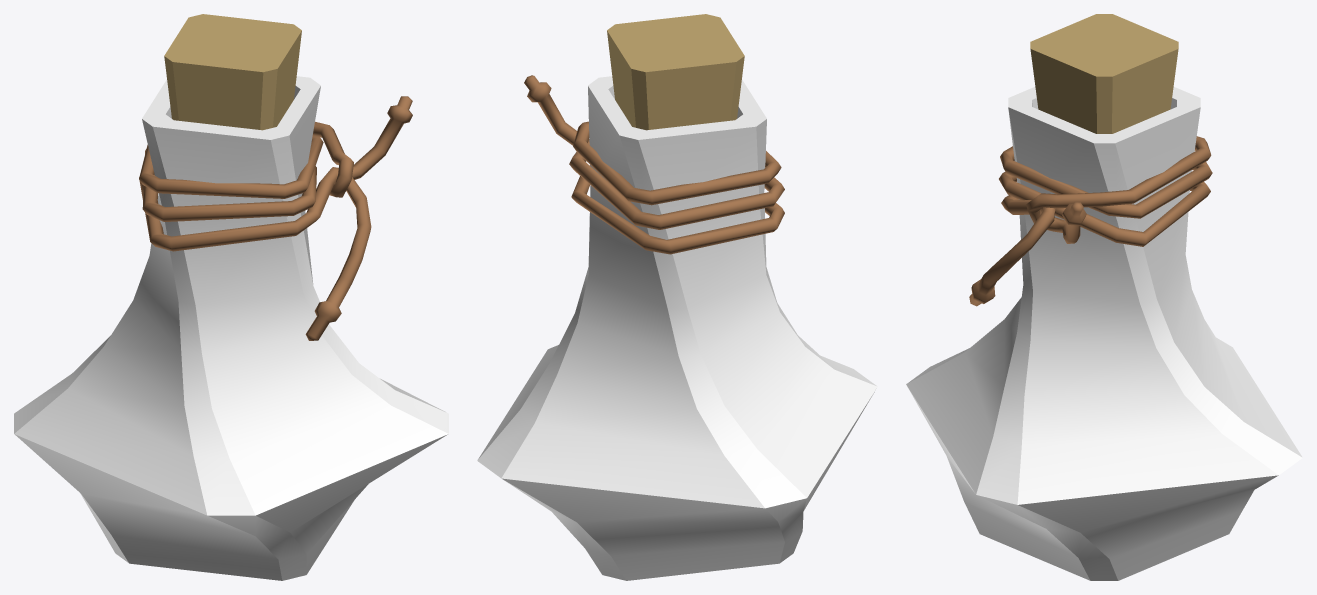
File: mana_potion.fbx
3 views of the same model, side by side, from view 1: azimuth 30°, elevation 25°; view 2: azimuth 150°, elevation 25°; view 3: azimuth 270°, elevation 25° (orthographic).
Visible parts, largest first — view 1: Cube; view 2: Cube; view 3: Cube.
Boxes of the visible parts, bbox=[...] form: Cube: bbox=[14, 14, 448, 580]; Cube: bbox=[477, 14, 877, 580]; Cube: bbox=[906, 14, 1302, 580].
Bounding box in the file's own units: 32.84 × 44.17 × 32.84.
